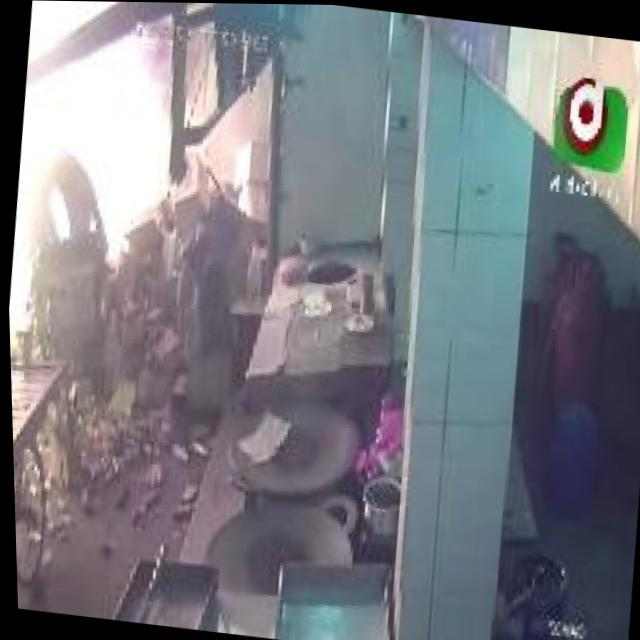fire: (0, 0, 188, 355)
